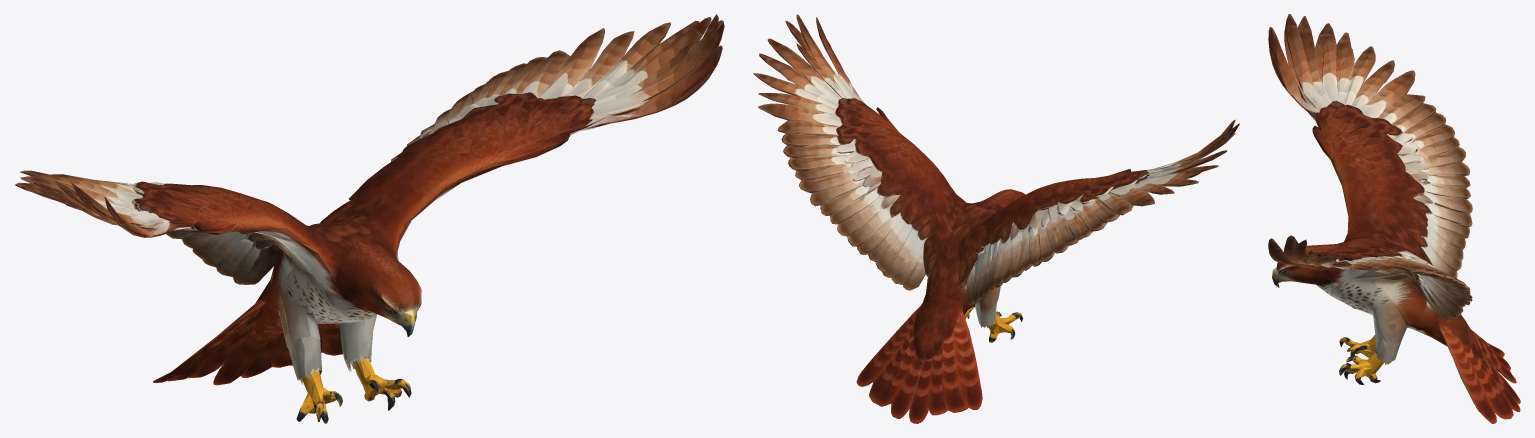
Rendered from falco.glb.
The picture shows the model from 3 angles, left to right: view 1: azimuth 30°, elevation 25°; view 2: azimuth 150°, elevation 25°; view 3: azimuth 270°, elevation 25°; orthographic projection. The views are drawn at different scales.
Bounding box in the file's own units: 1.9 × 1.08 × 0.8728.
Materials: 1 (1 with a texture image).
